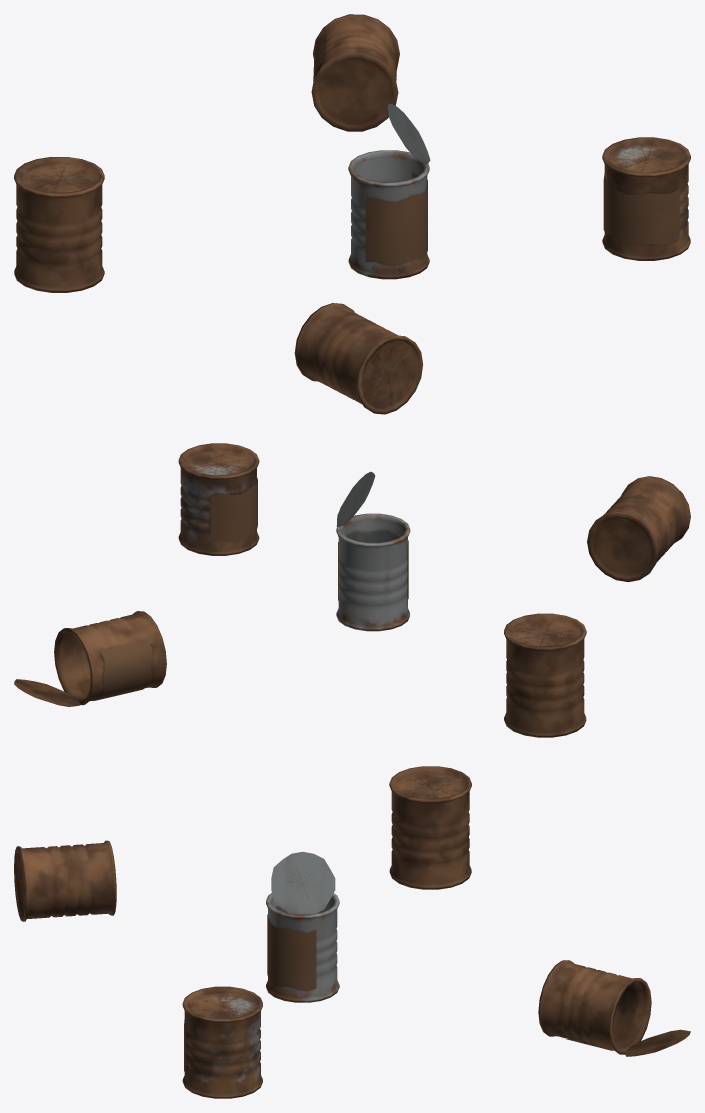
File: cans.glb
The picture shows the model from 3 angles, top to bottom: view 1: azimuth 30°, elevation 25°; view 2: azimuth 150°, elevation 25°; view 3: azimuth 270°, elevation 25°; orthographic projection. The views are drawn at different scales.
Parts seen in each view (by area): view 1: cans; view 2: cans; view 3: cans.
Boxes of the visible parts, <box> form: cans: <box>14,14,690,414</box>; cans: <box>14,443,690,737</box>; cans: <box>14,766,690,1098</box>.
Size of the model in its own units: 0.7204 by 0.1925 by 0.847.
Materials: 1 (1 with a texture image).
